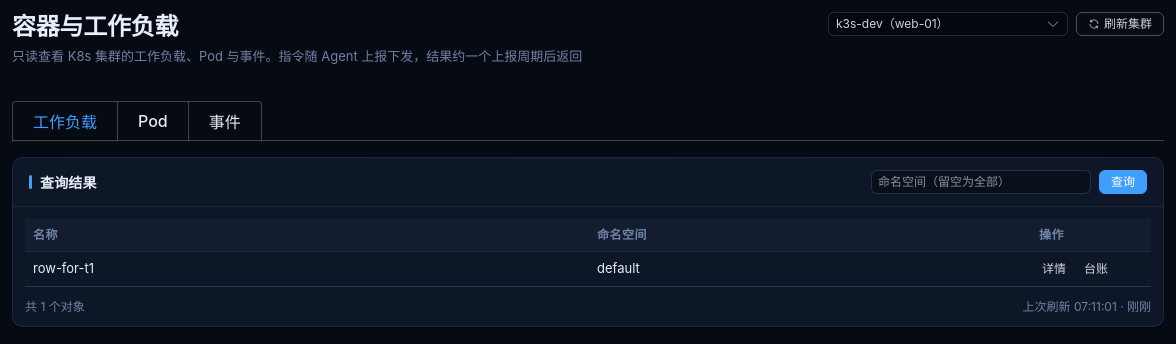
Test: ContainerView 容器与工作负载页 › 切 Tab：没有结果的 Tab 查一次，已有结果的 Tab 不重查
What coordinates should you click on to do the following:
click the tab "Pod"
I would click on:
 (152, 122)
Its box is [117,102,188,142].
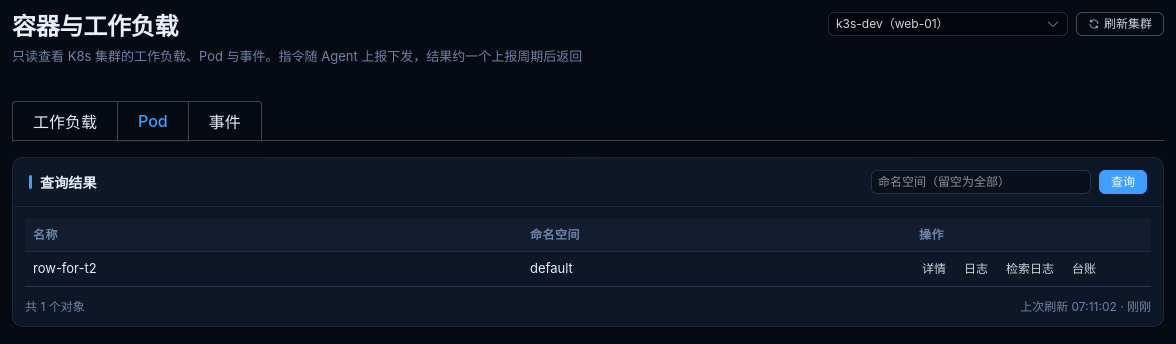
expect the text "row-for-t2" is shown: met, box [33,260,97,276]
What coordinates should you click on to do the following:
click the tab "工作负载"
I would click on:
 (65, 122)
Its box is [33,112,97,132].
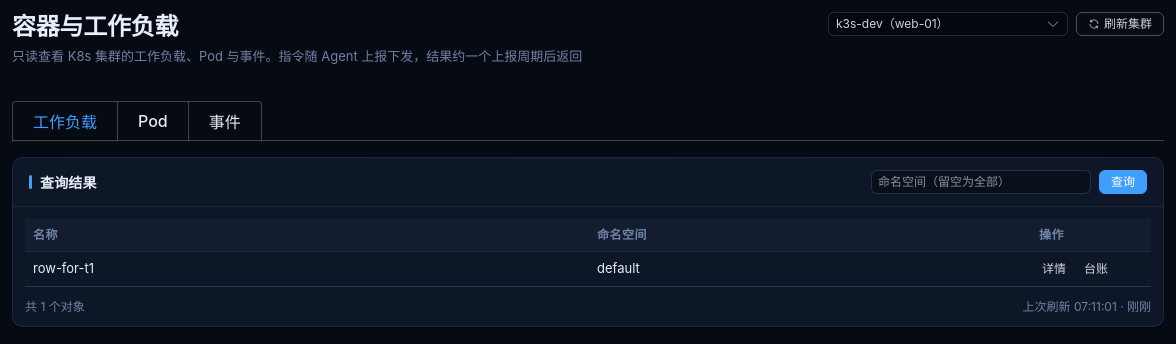
expect the text "row-for-t1" is shown: met, box [33,260,94,276]
